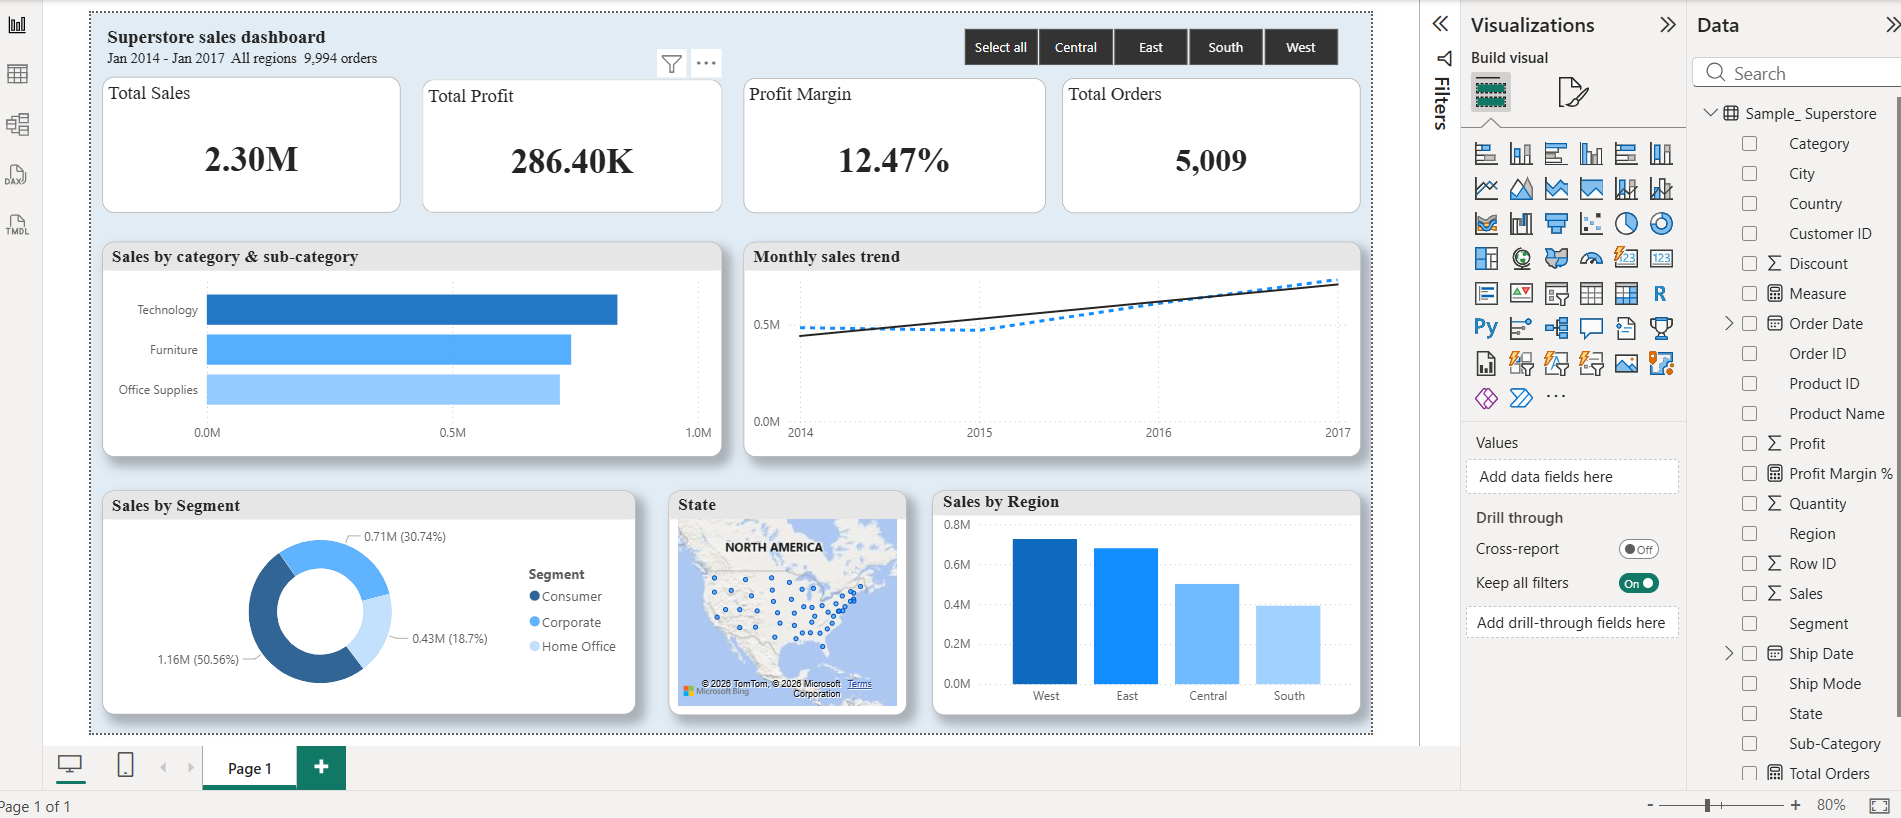

This screenshot's page, from the dashboard's own definition file:
{"tool":"powerbi","page":{"name":"Page 1","canvas":[1280,720],"ordinal":0},"visuals":[{"type":"card","title":"Total Sales","fields":{"Values":["Sample_ Superstore.Total Sales"]},"box":[11.2,63.8,298.8,136],"z":0},{"type":"card","title":"Total Profit","fields":{"Values":["Sample_ Superstore.Total Profit"]},"box":[331.2,66.2,300,133.8],"z":1000},{"type":"card","title":"Profit Margin ","fields":{"Values":["Sample_ Superstore.Profit Margin %"]},"box":[652.5,65,302.5,135],"z":2000},{"type":"map","fields":{"Category":["Sample_ Superstore.State"]},"box":[577.5,477.5,238.8,225],"z":3000},{"type":"slicer","title":"Select Region","fields":{"Values":["Sample_ Superstore.Region"]},"box":[848,9,423,50],"z":4000},{"type":"card","title":"Total Orders","fields":{"Values":["Sample_ Superstore.Total Orders"]},"box":[971.2,65,298.8,135],"z":5000},{"type":"clusteredBarChart","title":"Sales by category & sub-category","fields":{"Category":["Sample_ Superstore.Category","Sample_ Superstore.Sub-Category"],"Y":["Sample_ Superstore.Total Sales"]},"box":[11.2,228.8,620,215],"z":6000},{"type":"lineChart","title":"Monthly sales trend","fields":{"Category":["Sample_ Superstore.Order Date.Variation.Date Hierarchy.Year","Sample_ Superstore.Order Date.Variation.Date Hierarchy.Quarter","Sample_ Superstore.Order Date.Variation.Date Hierarchy.Month","Sample_ Superstore.Order Date.Variation.Date Hierarchy.Day"],"Y":["Sample_ Superstore.Total Sales"]},"box":[652.5,228.8,617.5,215],"z":7000},{"type":"donutChart","title":"Sales by Segment","fields":{"Category":["Sample_ Superstore.Segment"],"Y":["Sample_ Superstore.Total Sales"]},"box":[11.2,477.5,533.8,223.8],"z":8000},{"type":"clusteredColumnChart","title":"Sales by Region","fields":{"Category":["Sample_ Superstore.Region"],"Y":["Sample_ Superstore.Total Sales"]},"box":[841.2,477.5,428.8,225],"z":9000},{"type":"textbox","box":[11.2,8.8,297.5,78.8],"z":10000}]}

Visuals, with their boxes on the page's 1280x720 design canvas (x1, y1, x2, y2). These are canvas units, not pixel positions in the 1901x818 screenshot, which may show the page scaled, cropped or inside an application window:
"Total Sales" card: <box>11,64,310,200</box>
"Total Profit" card: <box>331,66,631,200</box>
"Profit Margin " card: <box>652,65,955,200</box>
map - Sample_ Superstore.State: <box>578,478,816,702</box>
"Select Region" slicer: <box>848,9,1271,59</box>
"Total Orders" card: <box>971,65,1270,200</box>
"Sales by category & sub-category" clusteredBarChart: <box>11,229,631,444</box>
"Monthly sales trend" lineChart: <box>652,229,1270,444</box>
"Sales by Segment" donutChart: <box>11,478,545,701</box>
"Sales by Region" clusteredColumnChart: <box>841,478,1270,702</box>
textbox: <box>11,9,309,88</box>
